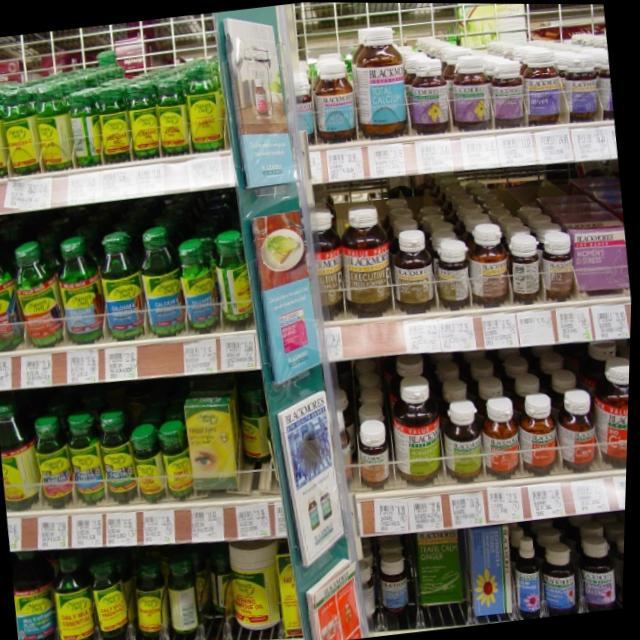q4: (4, 230, 75, 363), (30, 413, 82, 514), (0, 228, 25, 363)
